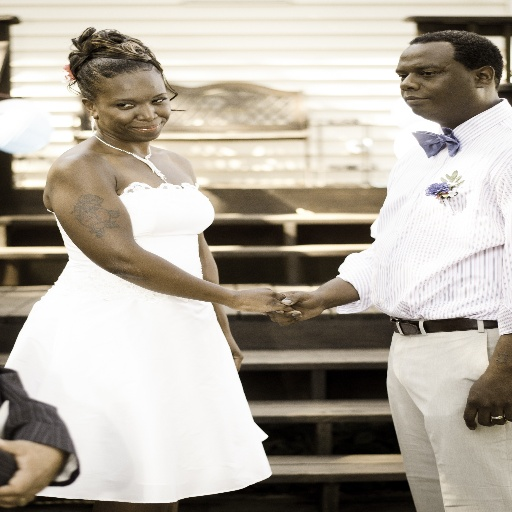hand: (218, 280, 365, 326), (0, 438, 66, 507), (463, 371, 511, 430), (266, 290, 321, 327)
